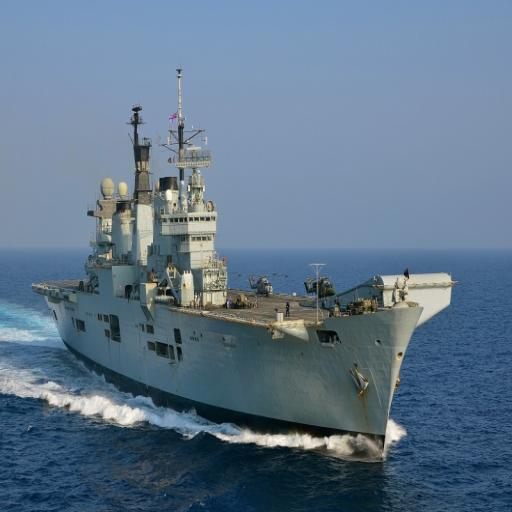Portanaves: (29, 60, 457, 463)
